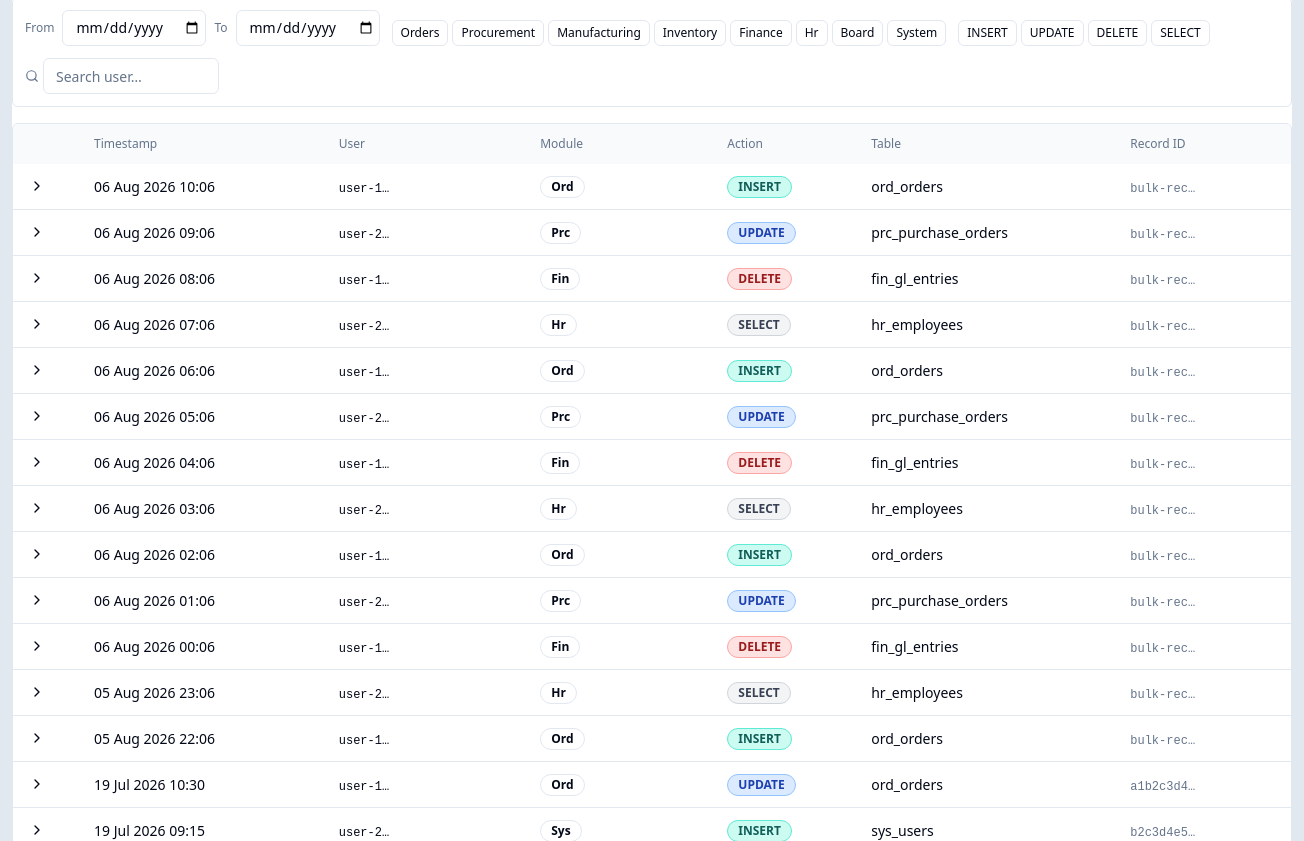
Test case: AuditLogPage › applies correct diff colors
// Expand the UPDATE row
Click the row with test id "audit-row-audit-1" at point(652, 784), box [13,762,1291,808]
(page scrolled)
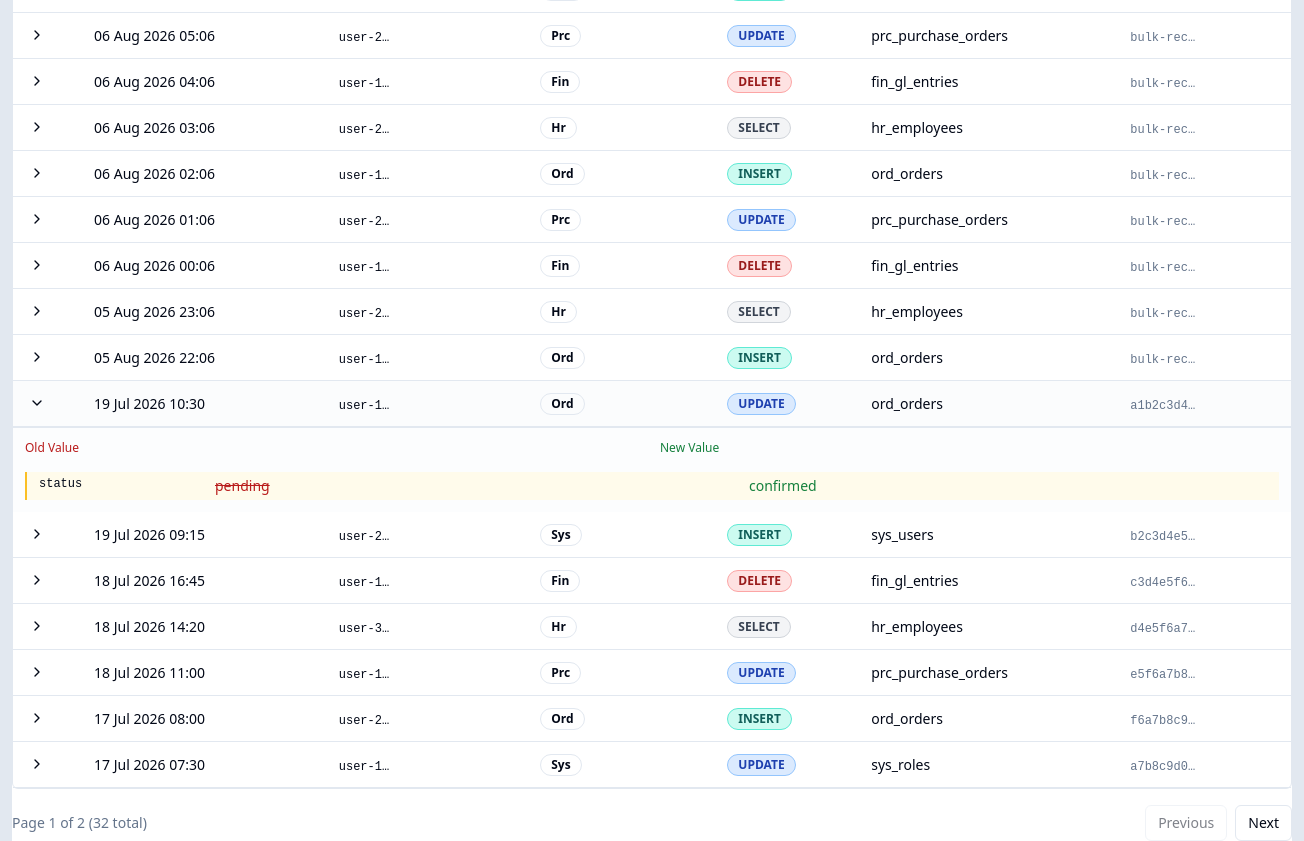
Now the row with test id "expanded-row-audit-1" is shown, box [13,426,1291,512]
Now the element showing "status pending confirmed" is shown, box [25,472,1279,500]
